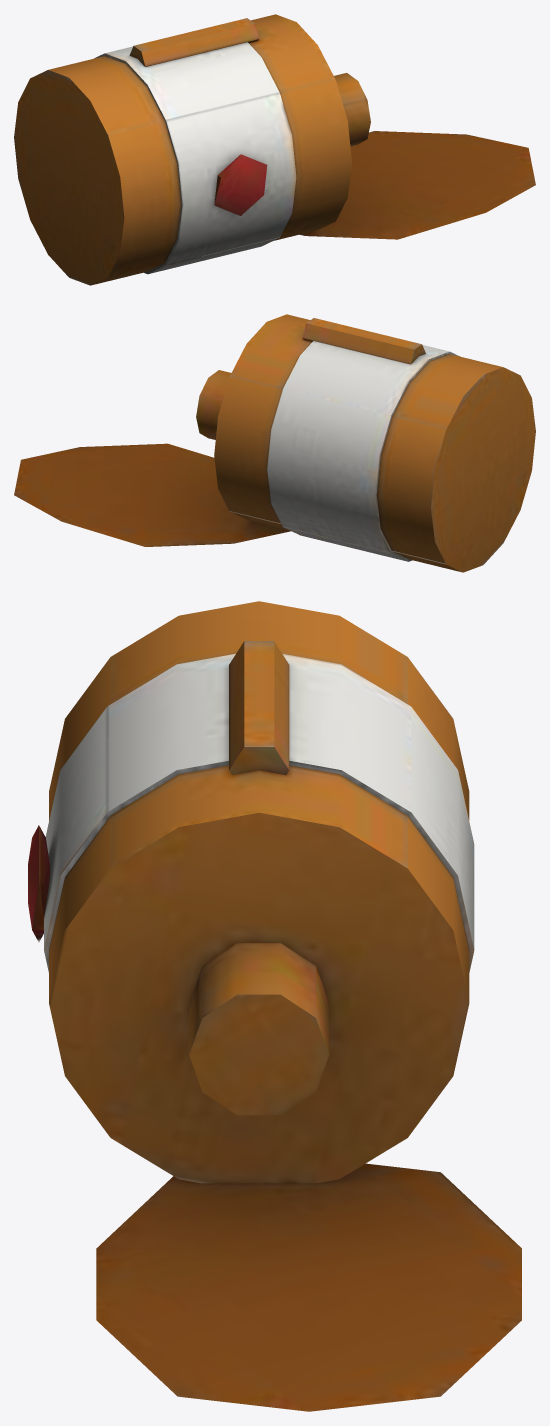
File: garrafa_arce.glb
3 renders of one model, top to bottom at view 1: azimuth 30°, elevation 25°; view 2: azimuth 150°, elevation 25°; view 3: azimuth 270°, elevation 25°, orthographic. The views are drawn at different scales.
Visible parts, largest first — view 1: garrafa_arce; view 2: garrafa_arce; view 3: garrafa_arce.
Boxes of the visible parts, x1,y1,x2,y2 form: garrafa_arce: [14, 14, 535, 285]; garrafa_arce: [14, 314, 535, 572]; garrafa_arce: [28, 601, 521, 1411].
Bounding box in the file's own units: 2.08 × 0.907 × 0.9874.
Materials: 1 (1 with a texture image).
